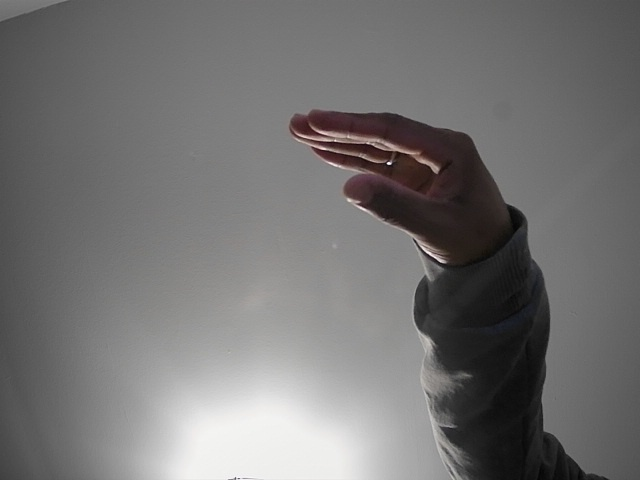No: (277, 91, 541, 270)
